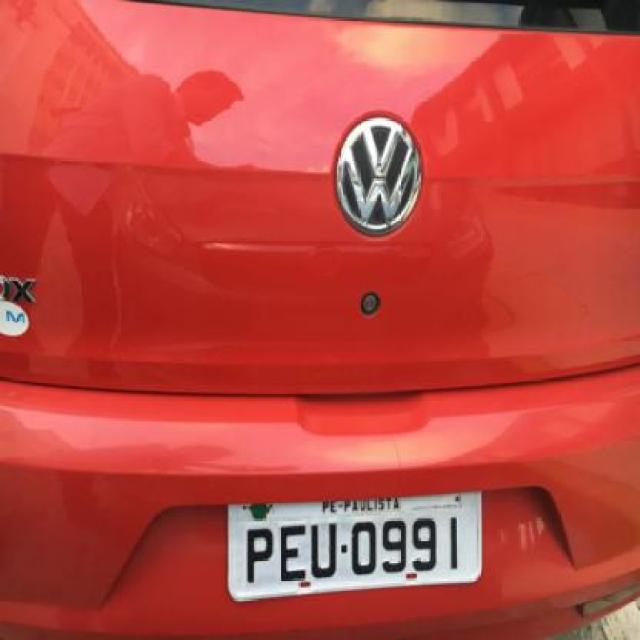old_plate: (221, 486, 488, 608)
